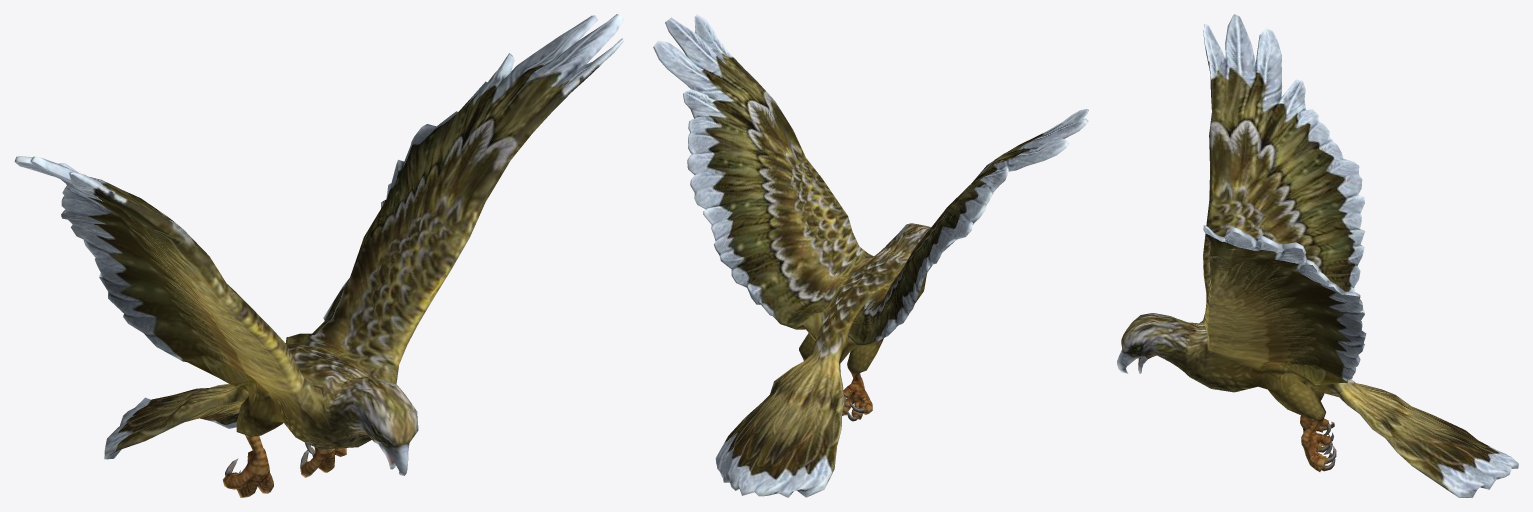
File: 130-stymphalianbird.glb
3 renders of one model, left to right at view 1: azimuth 30°, elevation 25°; view 2: azimuth 150°, elevation 25°; view 3: azimuth 270°, elevation 25°, orthographic. The views are drawn at different scales.
Size of the model in its own units: 4.54 by 3.48 by 3.57.
Materials: 1 (1 with a texture image).
